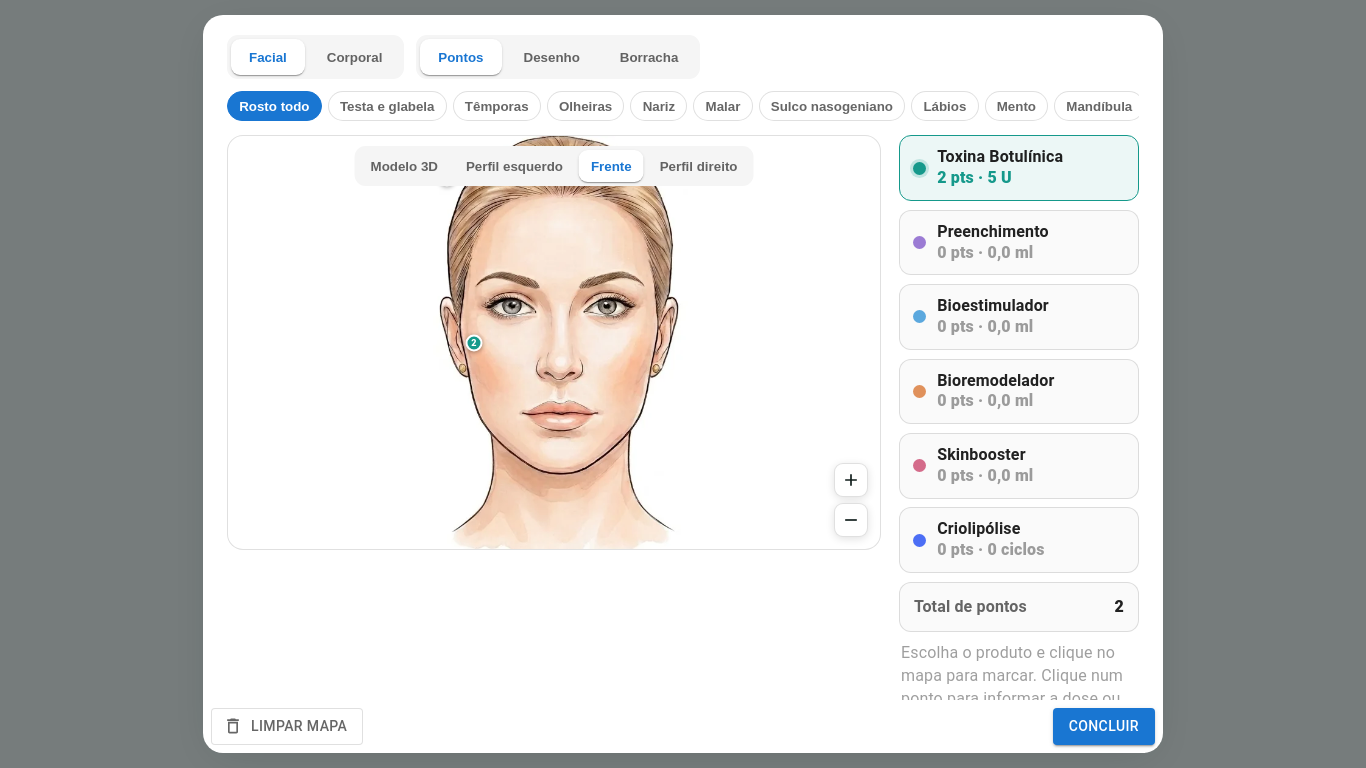
Scenario: ApplicationMapDialog › remove o ponto pelo editor e limpa todos pelo rodapé
Click the button named "Editar ponto 2" at (474,343), box [465,334,482,351]
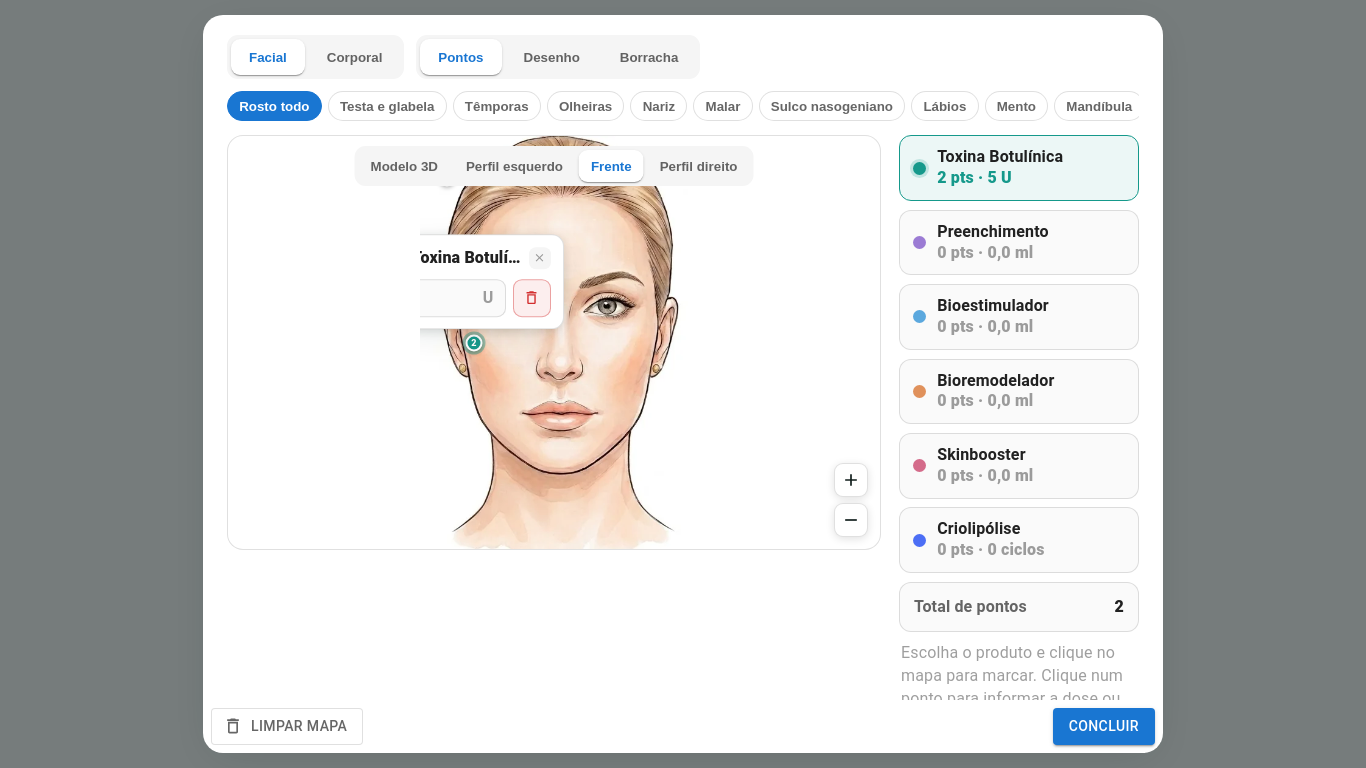
Click the button named "Remover ponto 2" at (532,298), box [513,279,551,317]
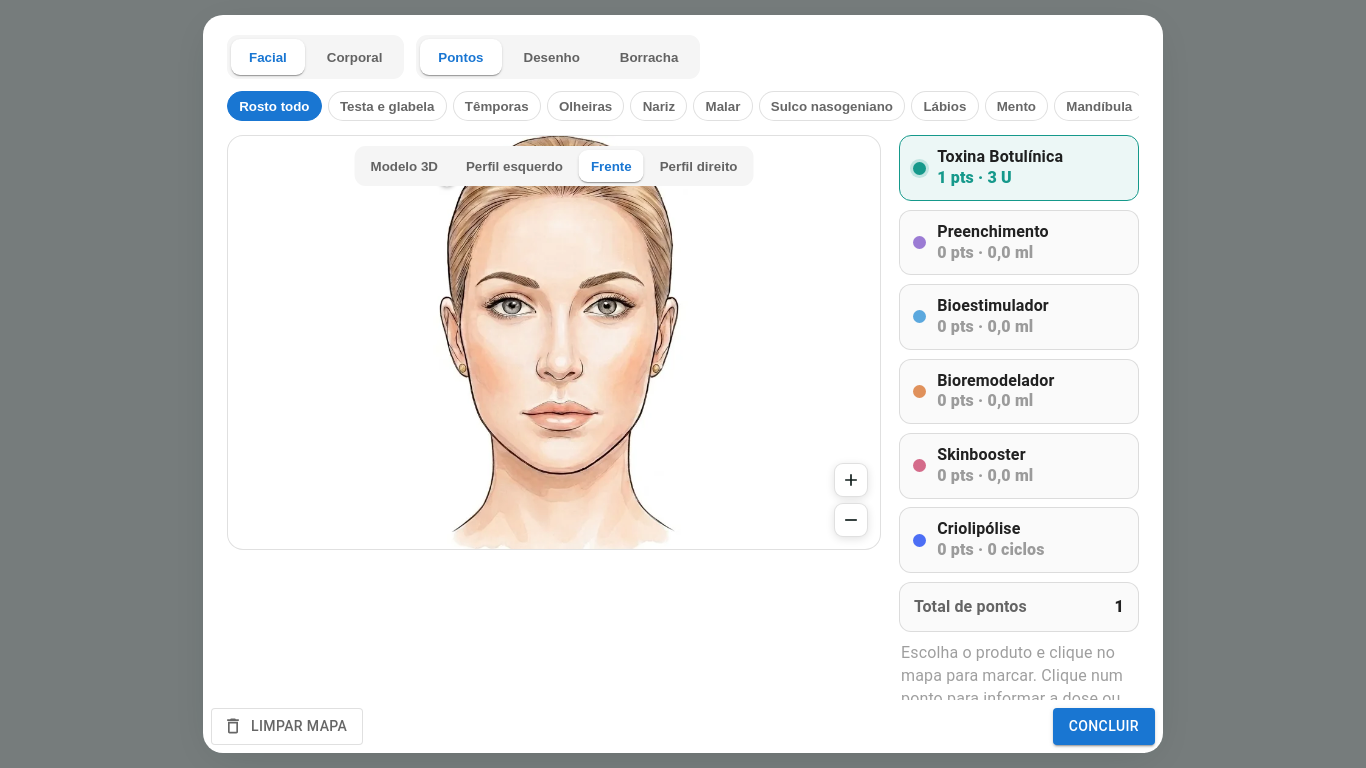
Click the button "Limpar mapa" at (287,726), box [211,708,363,745]
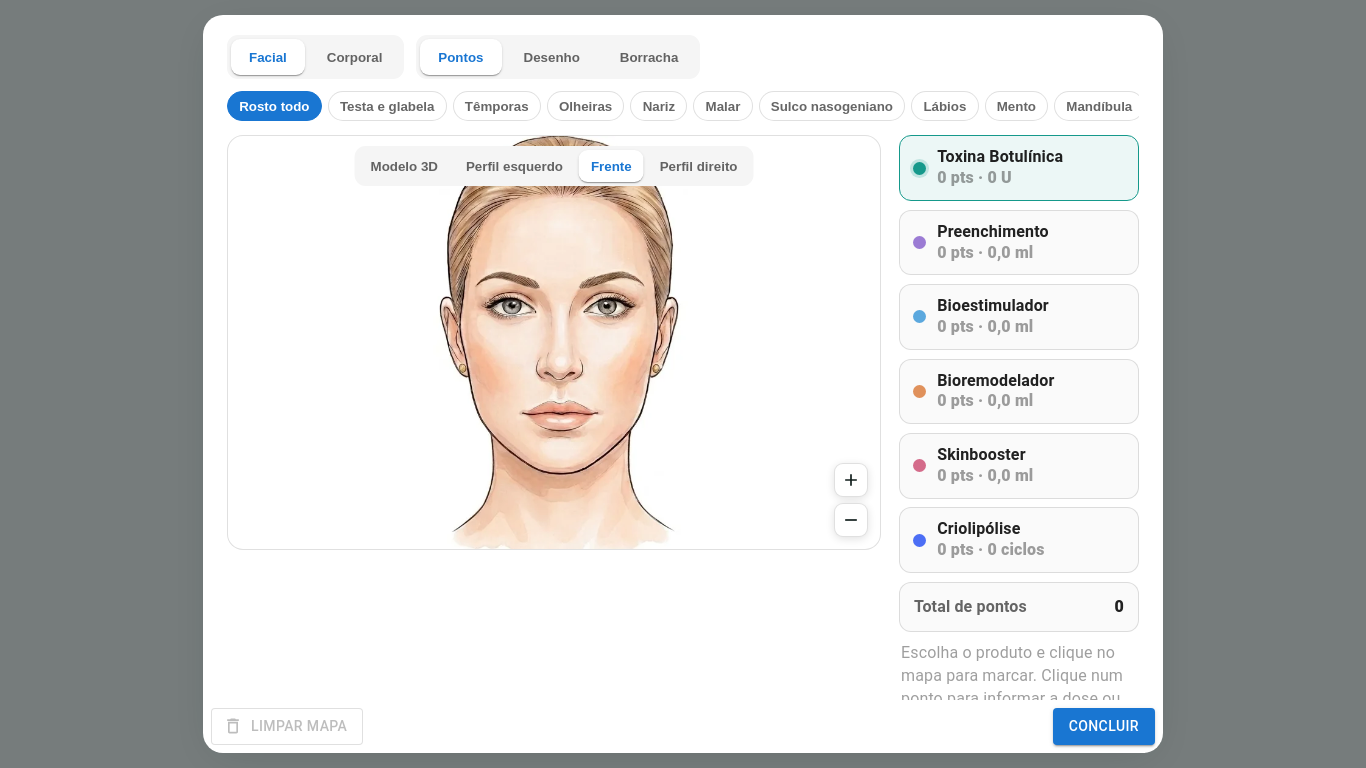
Result: the button "Limpar mapa" is disabled at [211,708,363,745]
